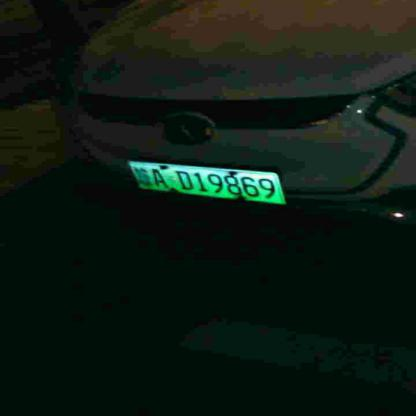lp: (127, 160, 286, 204)
